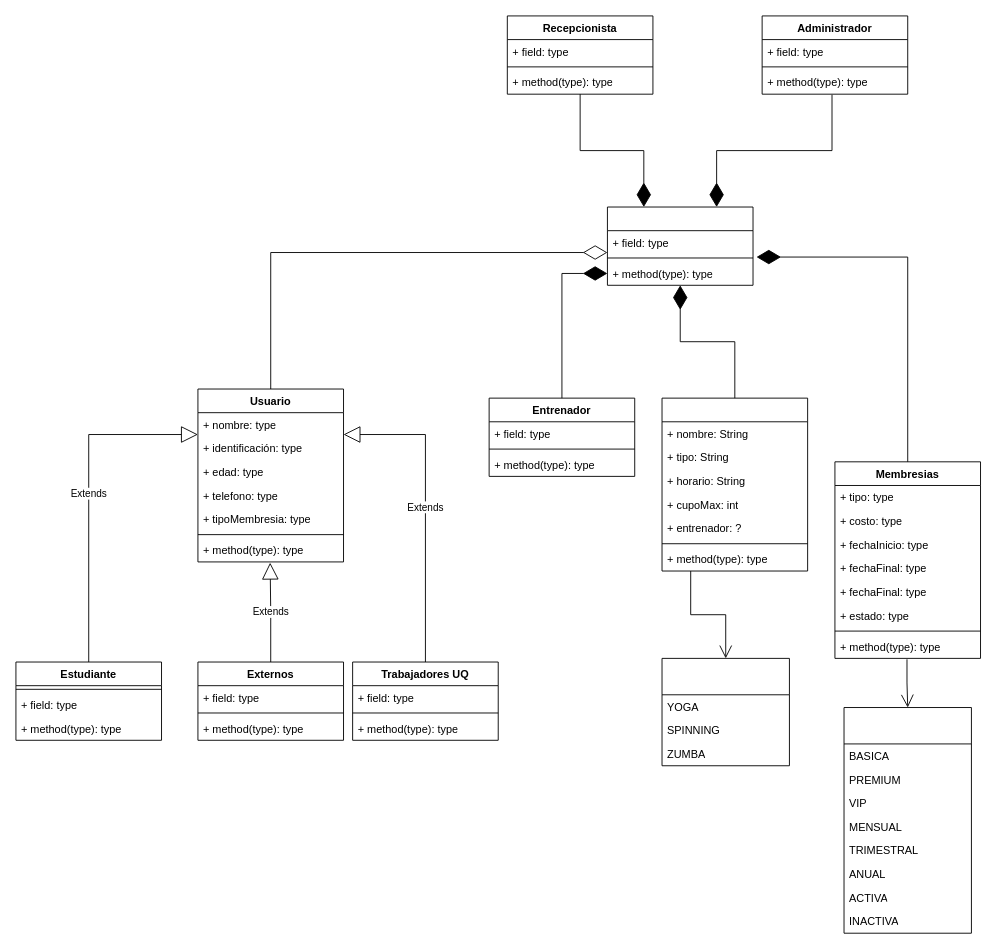
Image size: 996x952. Some labels were removed from this diagram. The shapes that lost their labels are listed below. From the top down, each one's box as (x1, y1, x2, y2) in pixels, then its label:
(607, 206, 753, 285): Gimnasio UQ
(661, 397, 808, 571): Clases
(661, 657, 789, 766): <<enum>> TipoClases
(843, 707, 971, 933): <<enum>> TipoMembresias
